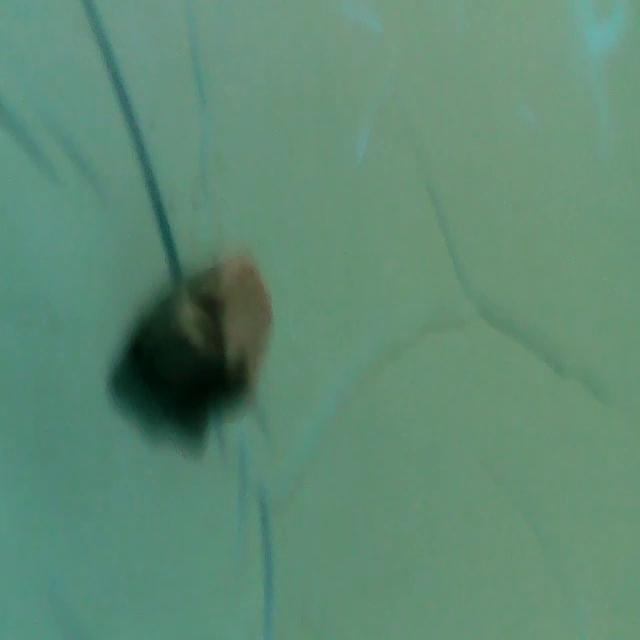rock: (117, 252, 282, 449)
